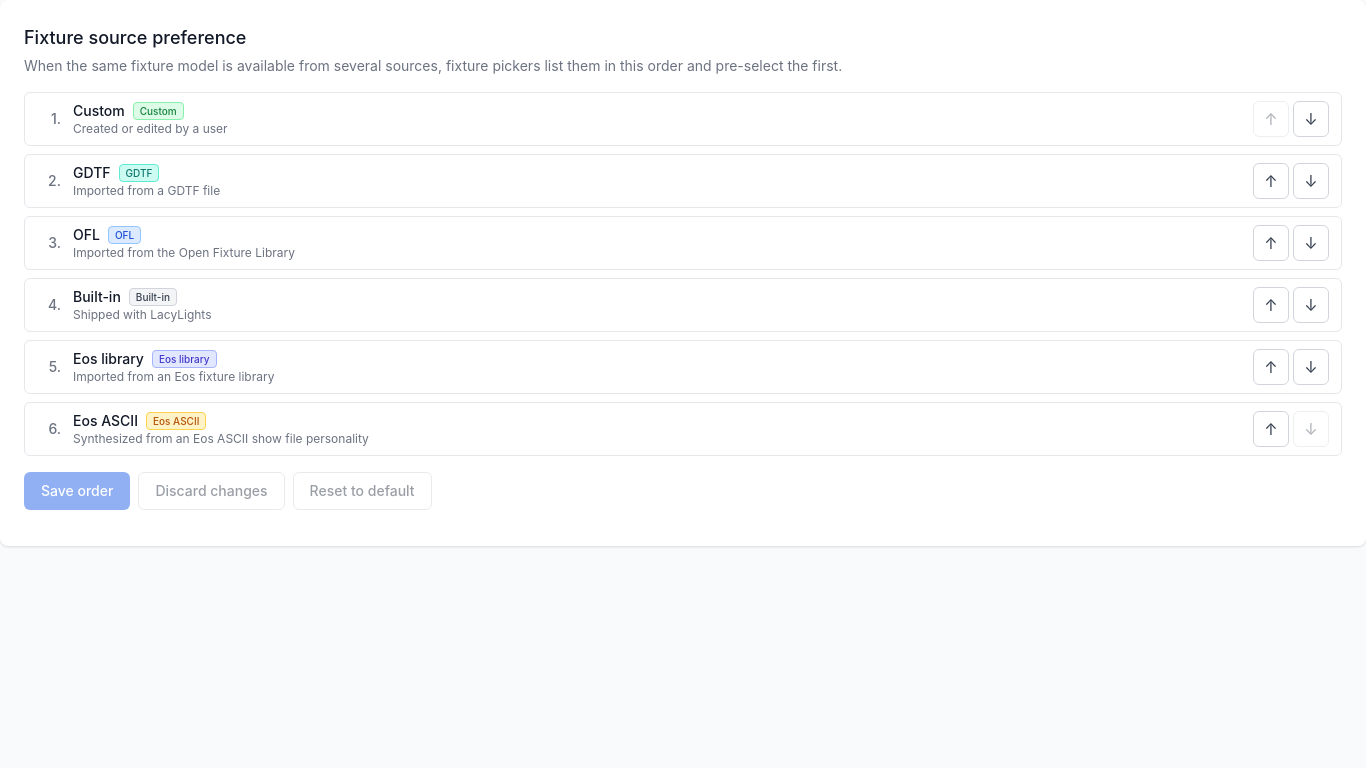
Test: FixtureSourcePrecedenceSettings › saves the order and shows the order the server stored
Click the button named "Move OFL up" at [1271, 243], box [1253,225,1289,261]
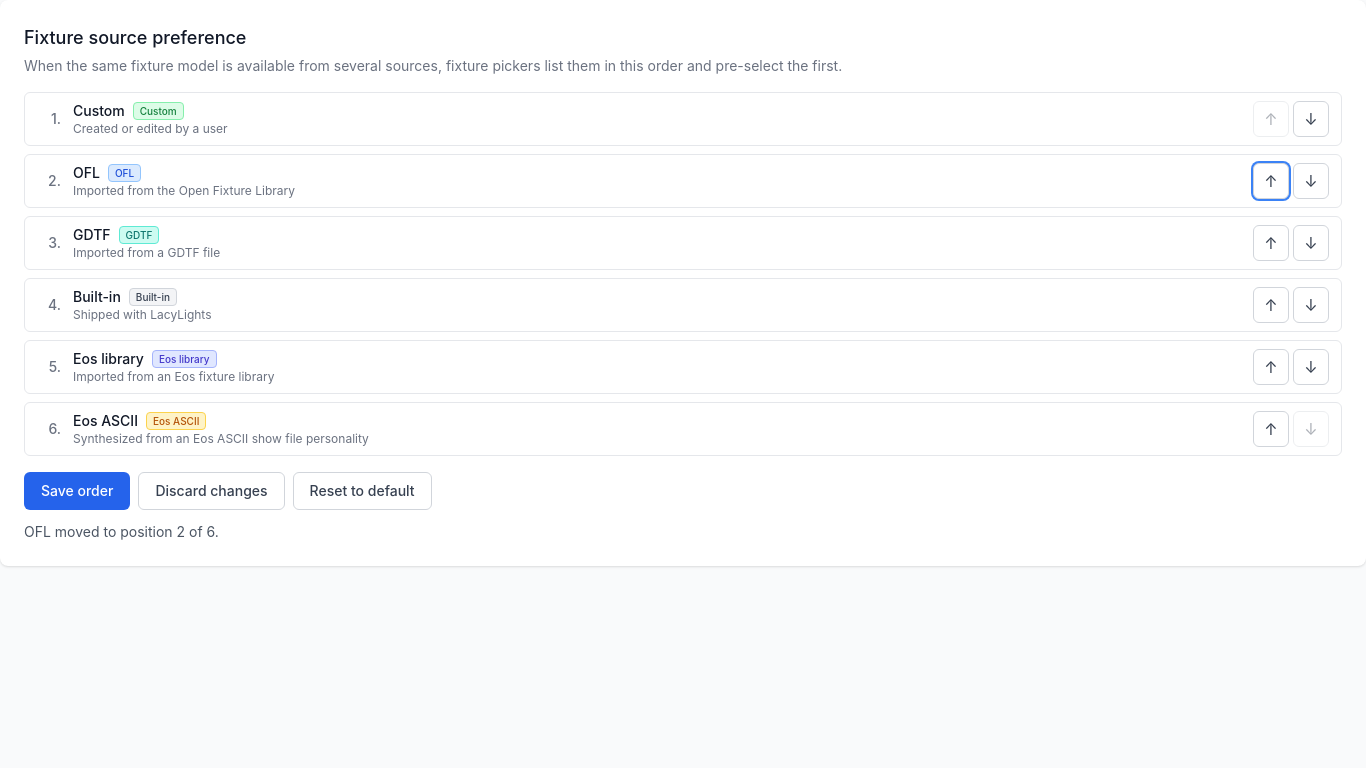
Click the button named "Move OFL up" at [1271, 181], box [1253,163,1289,199]
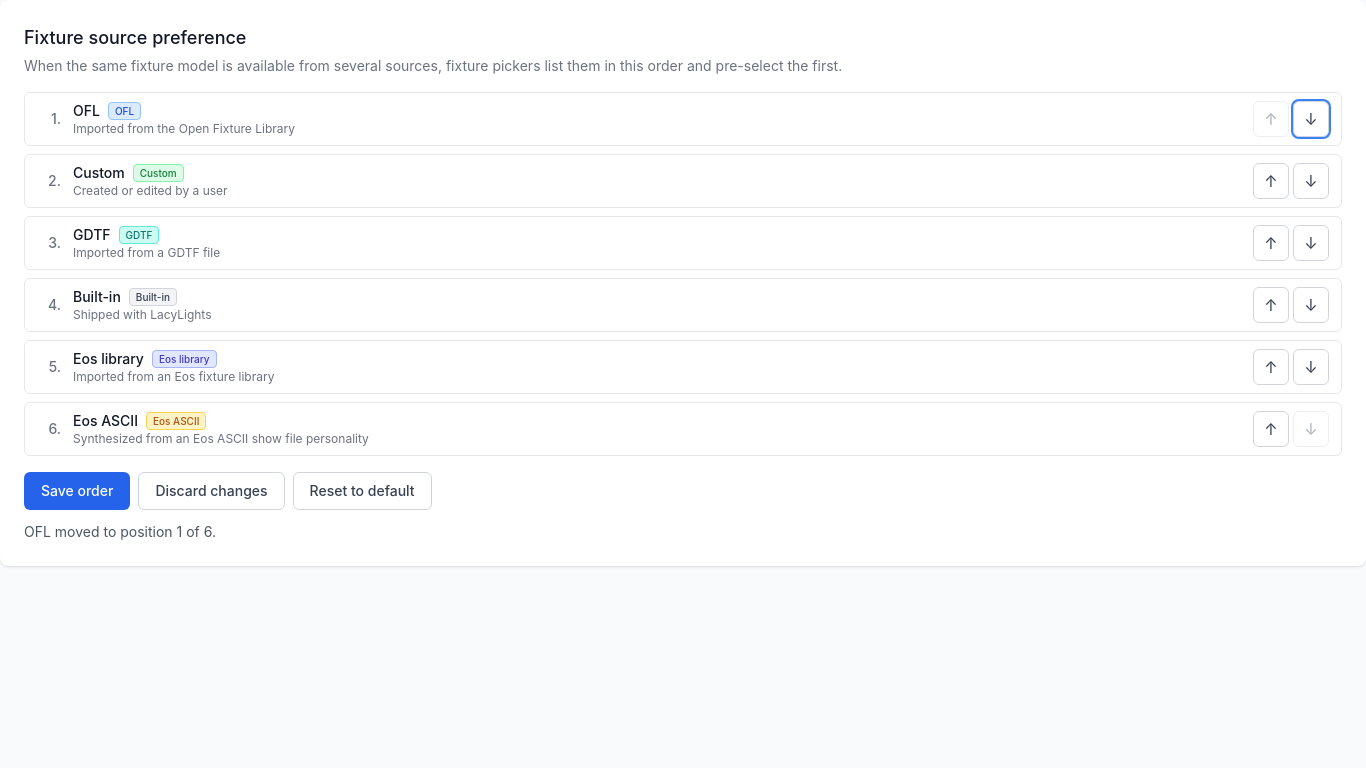
Click the button "Save order" at [77, 491], box [24,472,130,510]
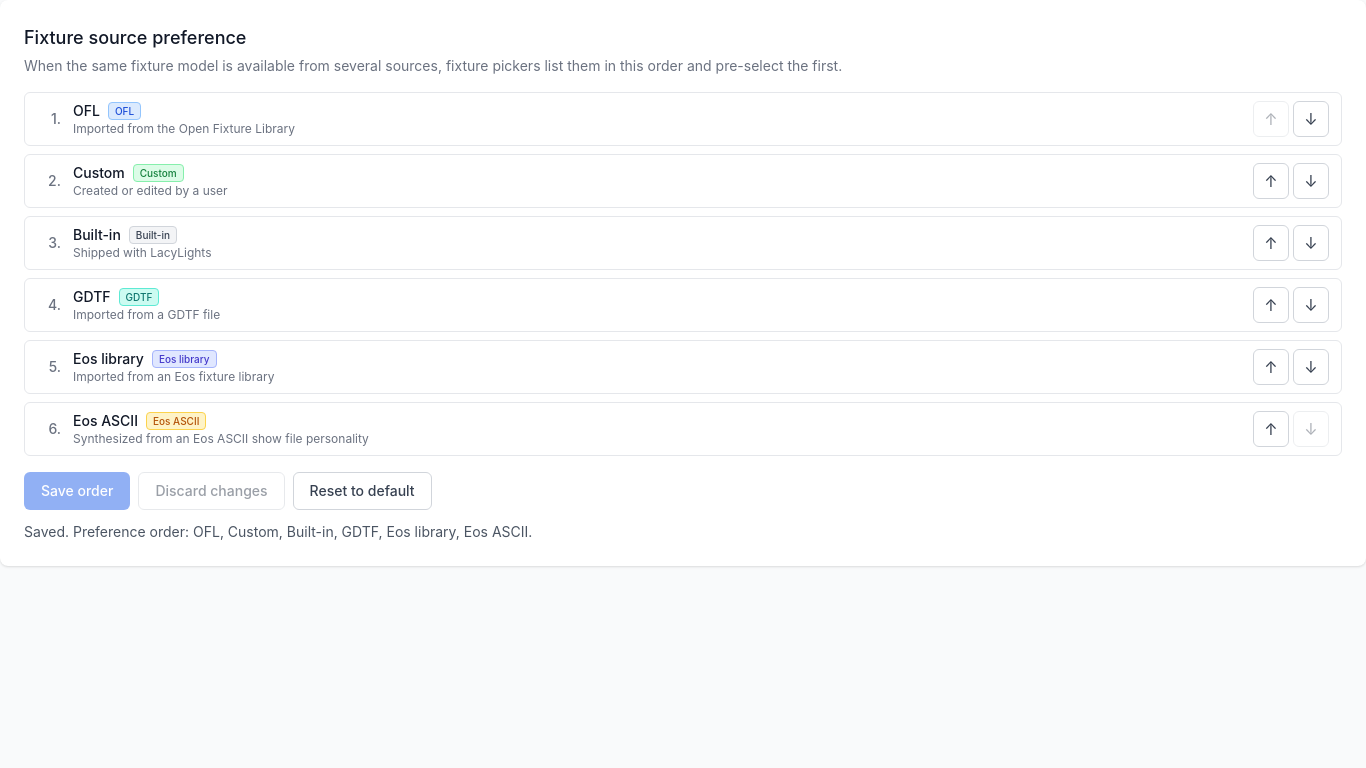
Now the message reads "Saved. Preference order: OFL, Custom, Built-in, GDTF, Eos library, Eos ASCII.", box [24,523,532,540]
Now the button "Save order" is disabled, box [24,472,130,510]
